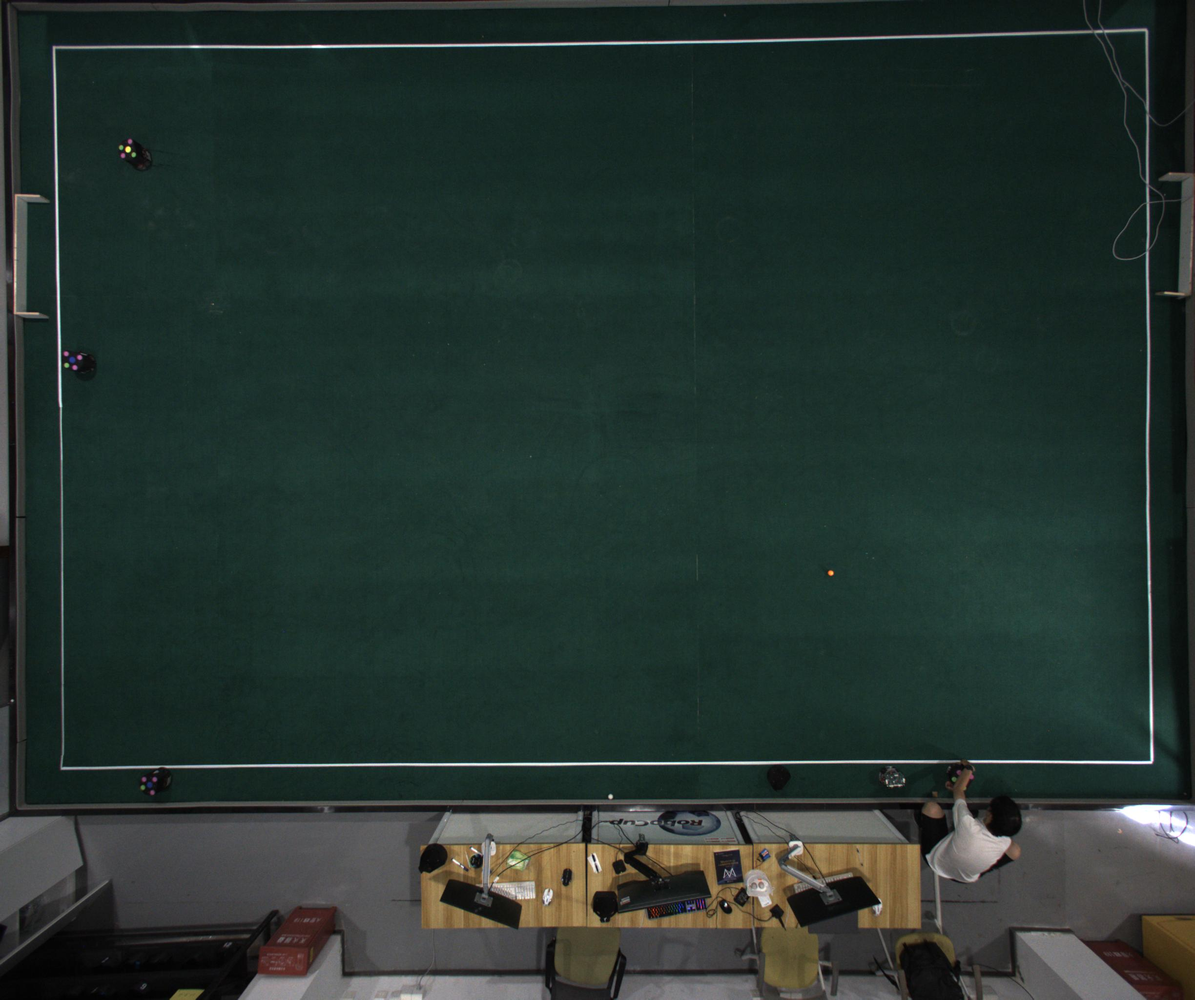ball: (827, 570, 834, 576)
blue_bot: (139, 775, 160, 797), (62, 350, 84, 371)
yellow_bot: (118, 138, 137, 161)
